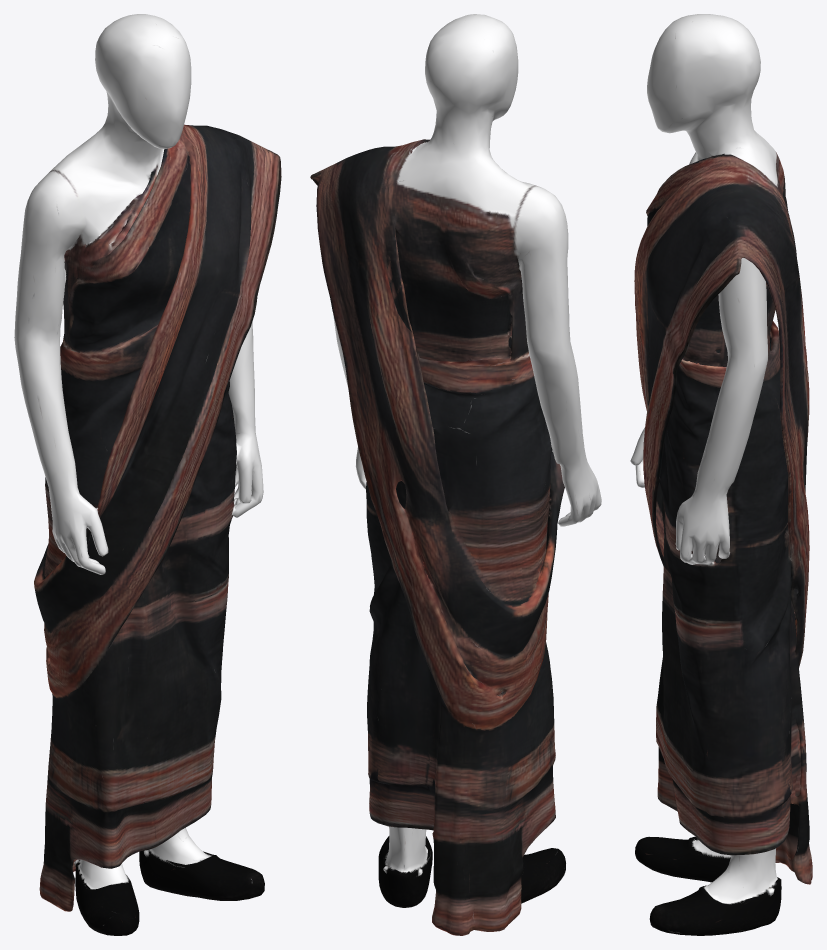
The model's file is X_tieng_nam_00001.glb.
3 views of the same model, side by side, from view 1: azimuth 30°, elevation 25°; view 2: azimuth 150°, elevation 25°; view 3: azimuth 270°, elevation 25° (orthographic). The views are drawn at different scales.
Size of the model in its own units: 0.2746 by 0.8882 by 0.1663.
1 material, 1 textured.
